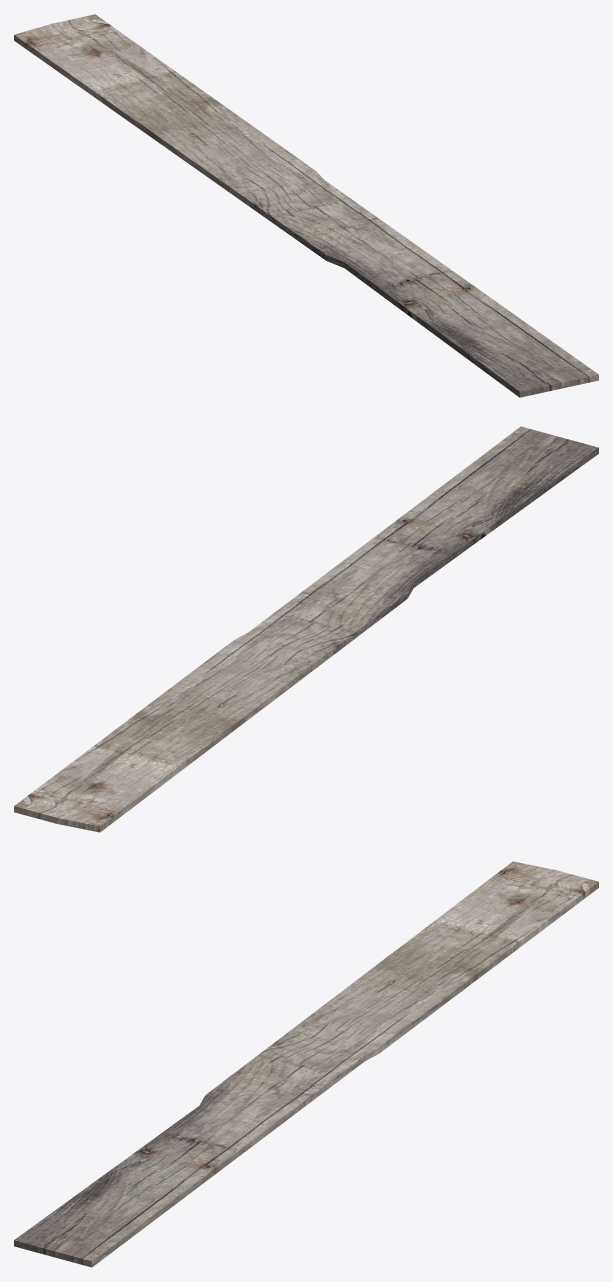
Rendered from woodBoard.FBX.
3 renders of one model, top to bottom at view 1: azimuth 30°, elevation 25°; view 2: azimuth 150°, elevation 25°; view 3: azimuth 330°, elevation 25°, orthographic. The views are drawn at different scales.
Visible parts, largest first — view 1: woodBoard; view 2: woodBoard; view 3: woodBoard.
Part boxes in pixels (x1=…): woodBoard: x1=14, y1=14, x2=598, y2=397; woodBoard: x1=14, y1=426, x2=598, y2=832; woodBoard: x1=14, y1=861, x2=598, y2=1267.
Bounding box in the file's own units: 0.1606 × 0.01 × 1.52.
